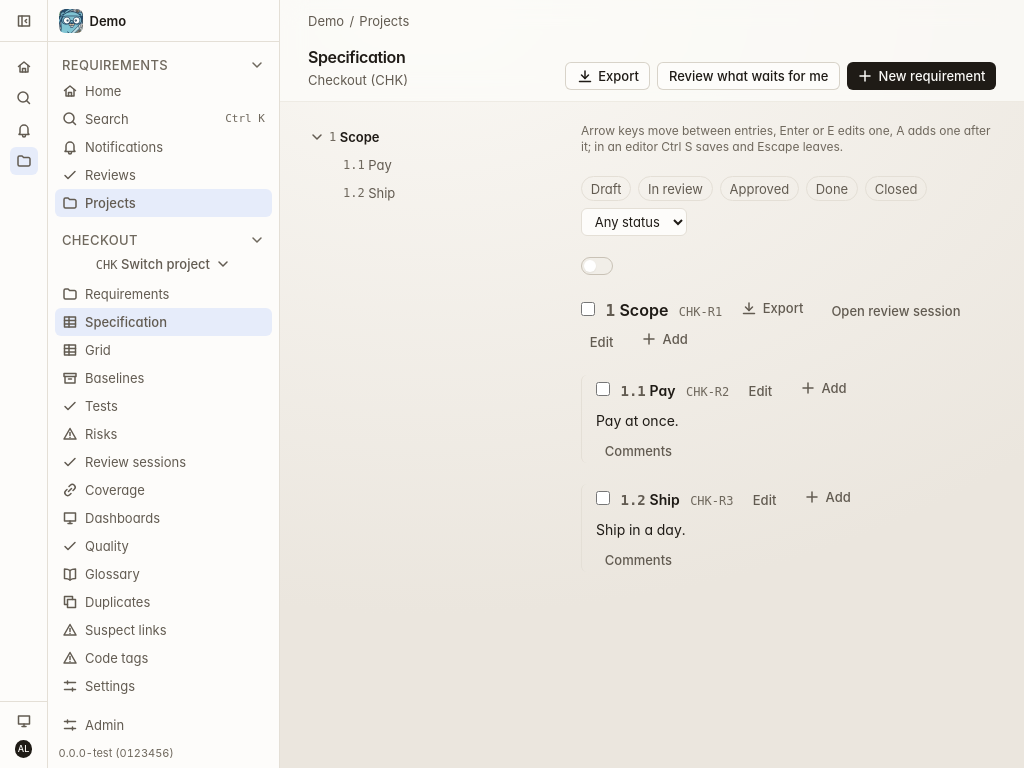
reviews in the document › asks for the review of the picked requirements, and says which already wait
What coordinates should you click on to do the following:
click the checkbox named "Select everything in Scope" in the row of "CHK-R1"
I would click on:
 (588, 309)
Its box is x1=581 y1=302 x2=595 y2=316.
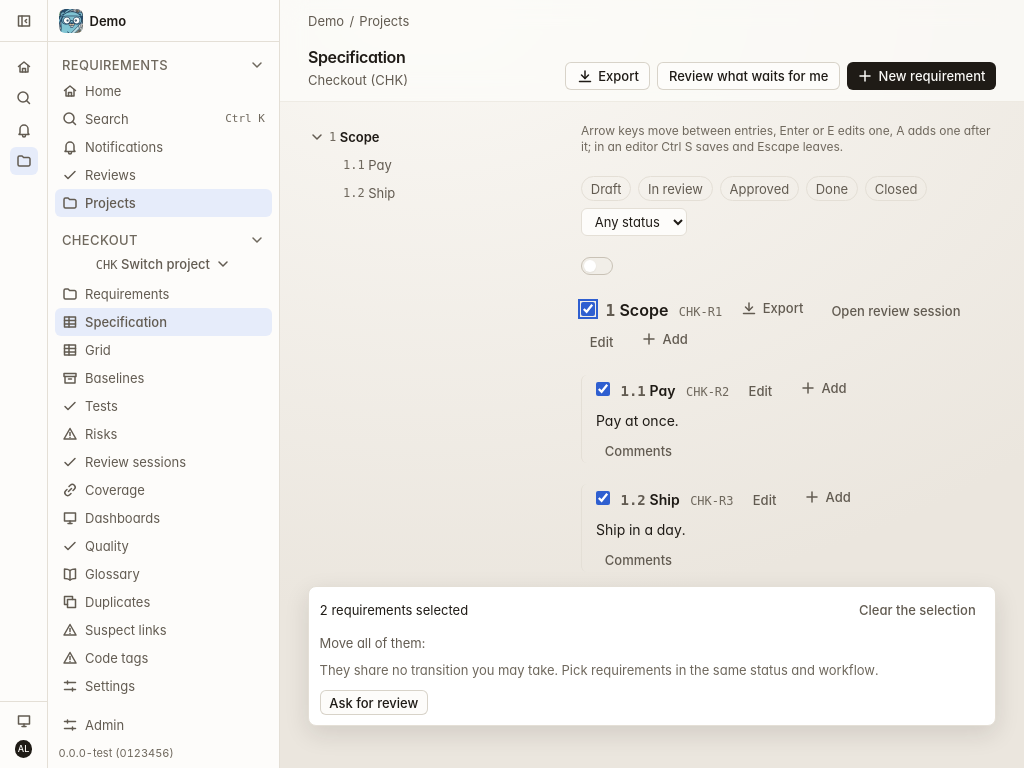
What coordinates should you click on to do the following:
click the button "Ask for review"
I would click on:
 (374, 703)
Its box is x1=320 y1=690 x2=428 y2=715.
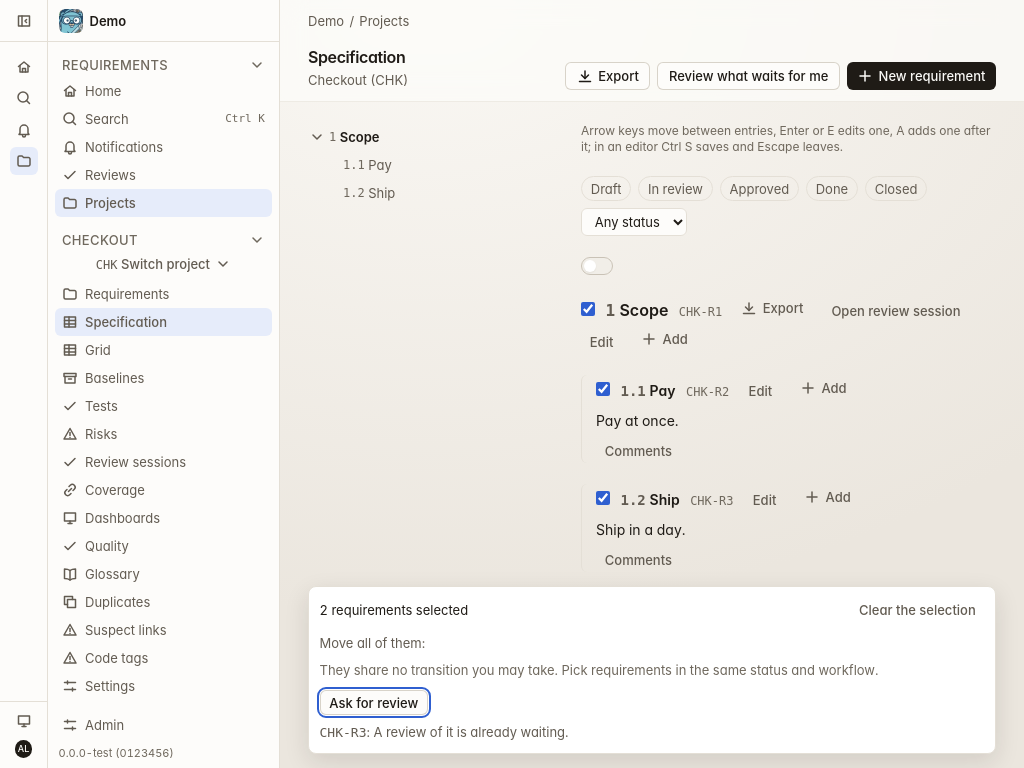
Now the list item "CHK-R3: A review of it is already waiting." is shown, box x1=320 y1=724 x2=568 y2=740
